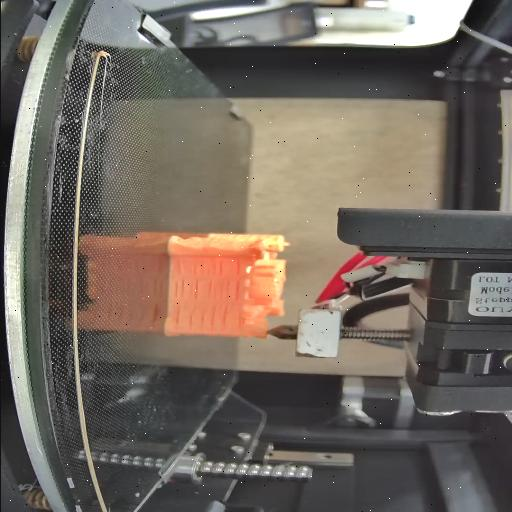cracks: (172, 304, 230, 330), (170, 254, 224, 277), (205, 278, 237, 301), (174, 278, 200, 300), (231, 256, 241, 277)
